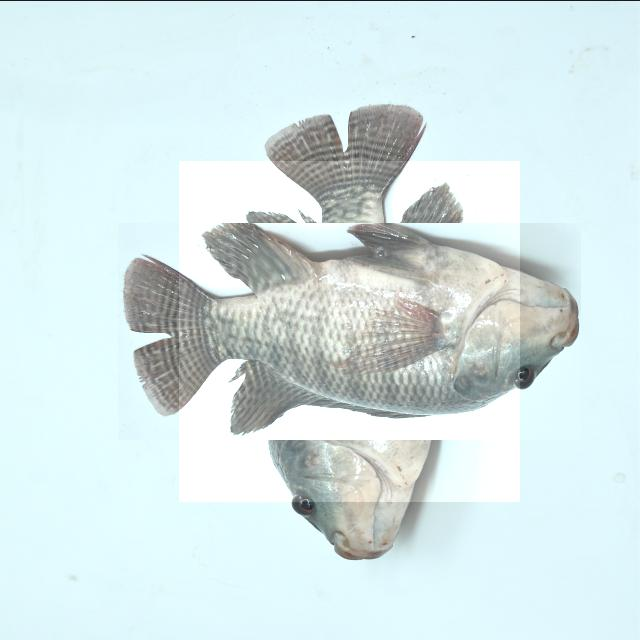Healthy Fish: (179, 160, 520, 501)
